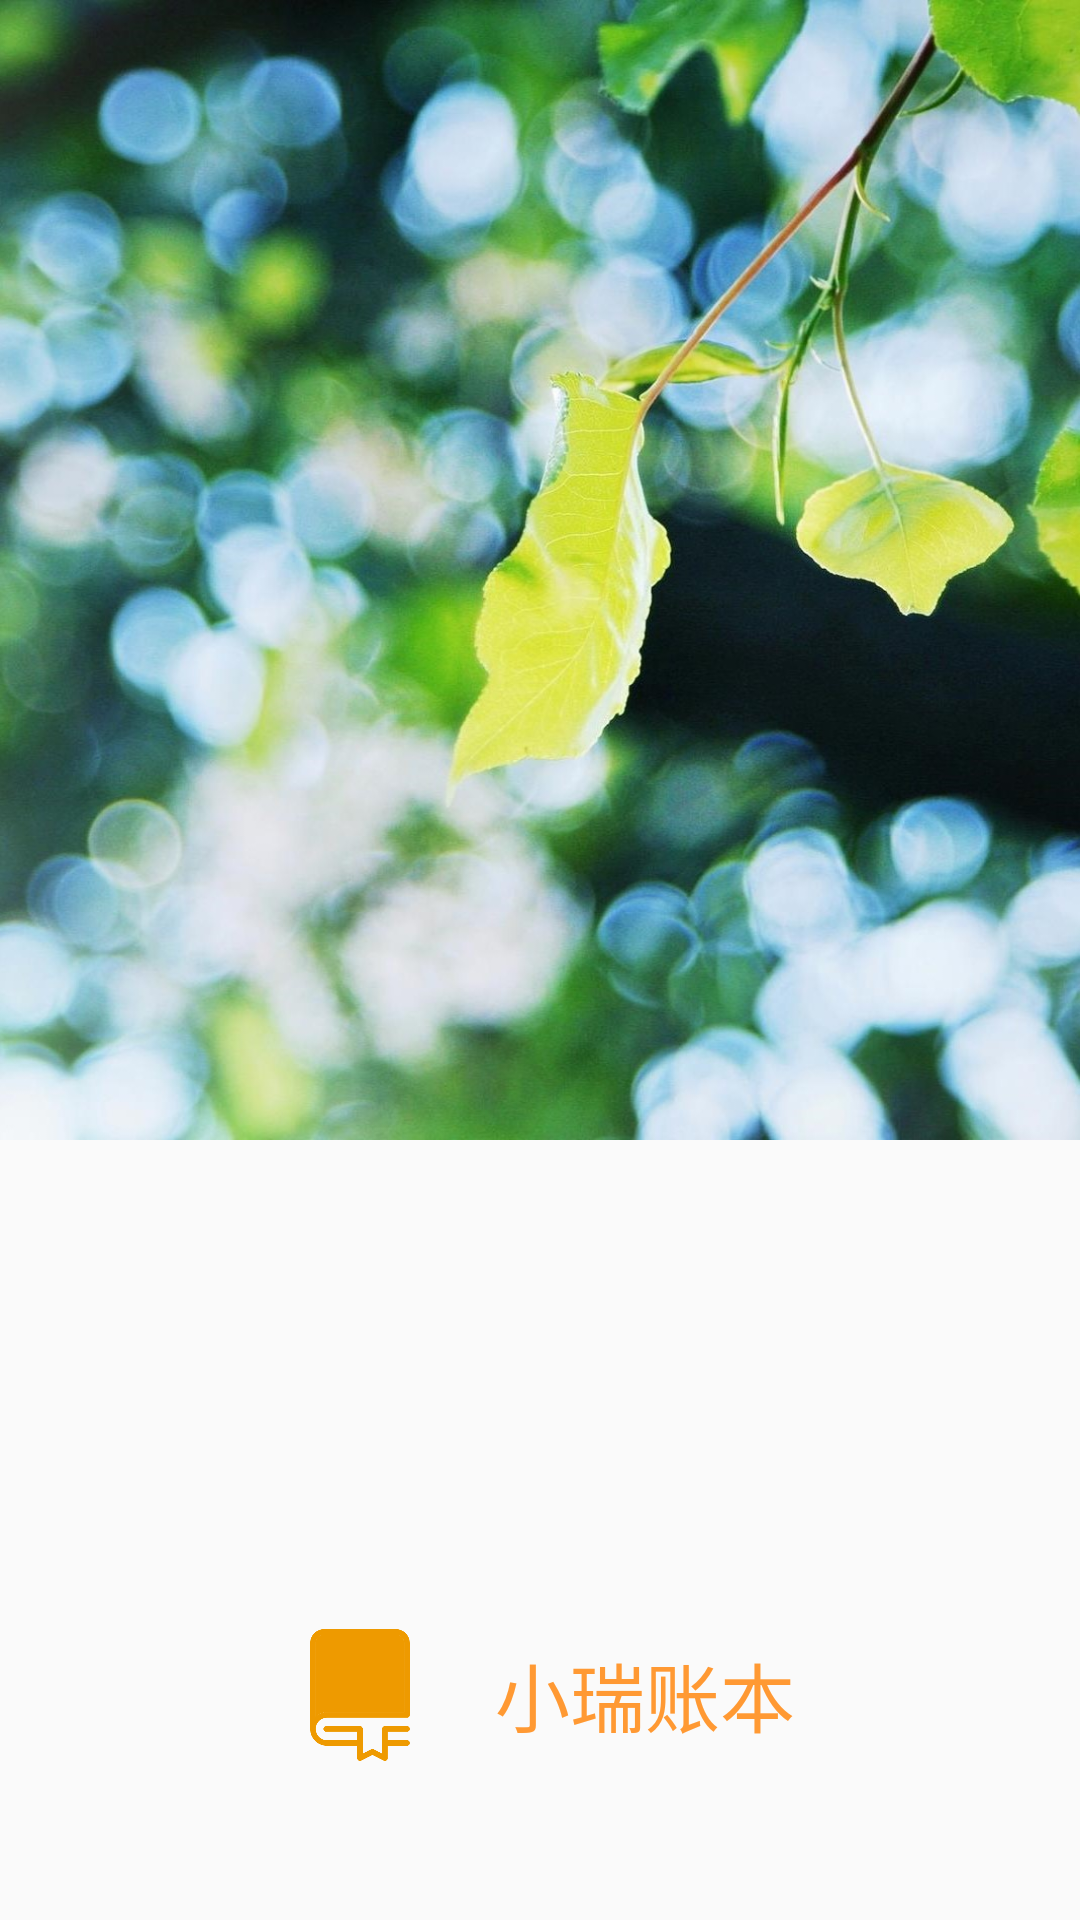

Icon bounding boxes for this 1080×1920 phone screenshot, format (x1, y1, x2, y2):
book: (310, 1629, 410, 1761)
